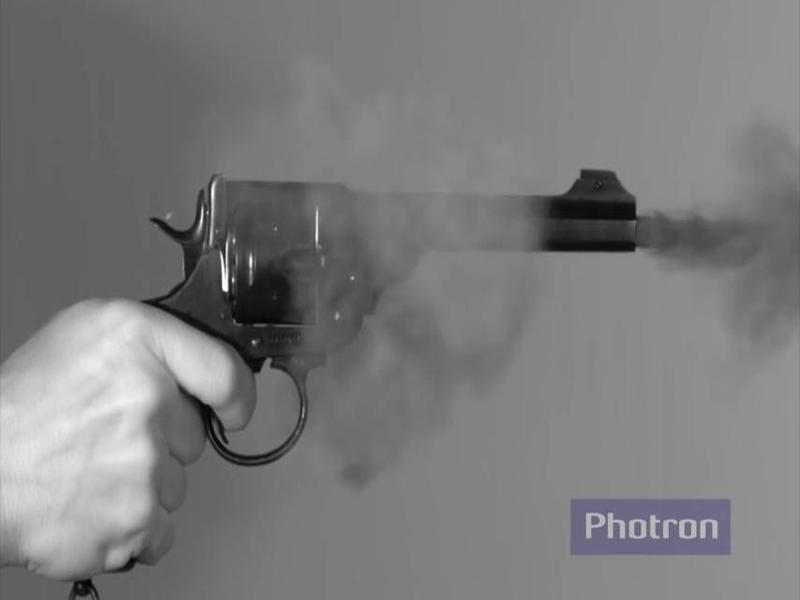Revolver: (104, 128, 670, 501)
